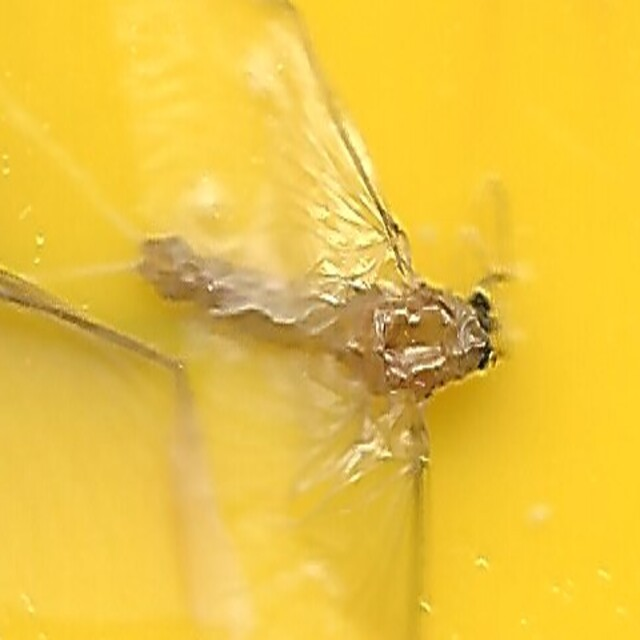Ephemeroptera: (133, 233, 507, 407)
